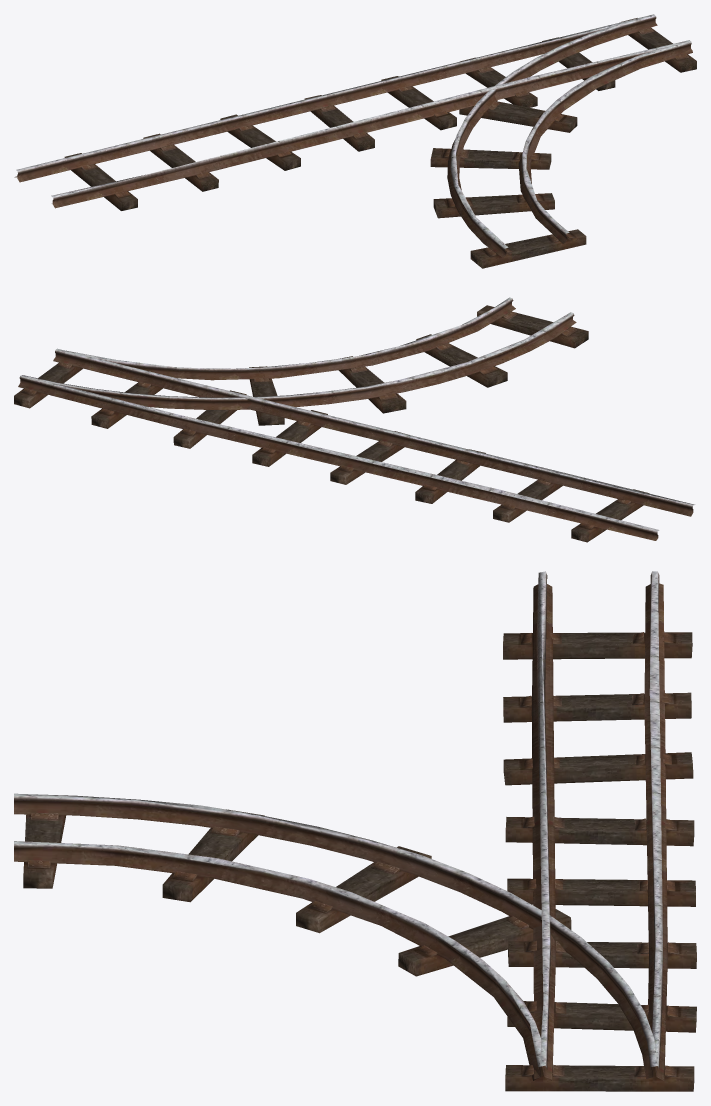
The model's file is mine_tnl_t_junction_rail.glb.
The picture shows the model from 3 angles, top to bottom: view 1: azimuth 30°, elevation 25°; view 2: azimuth 150°, elevation 25°; view 3: azimuth 270°, elevation 25°; orthographic projection. The views are drawn at different scales.
Parts seen in each view (by area): view 1: mine_tnl_T_junction_rail; view 2: mine_tnl_T_junction_rail; view 3: mine_tnl_T_junction_rail.
Part boxes in pixels (x1,y1,x2,y2): mine_tnl_T_junction_rail: (14, 14, 696, 268); mine_tnl_T_junction_rail: (14, 297, 694, 542); mine_tnl_T_junction_rail: (14, 571, 696, 1091).
Bounding box in the file's own units: 12 × 0.3728 × 7.
1 material, 1 textured.
